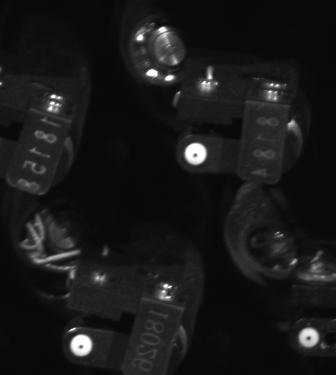fiber: (294, 324, 327, 355), (67, 329, 99, 360), (182, 138, 213, 169)
